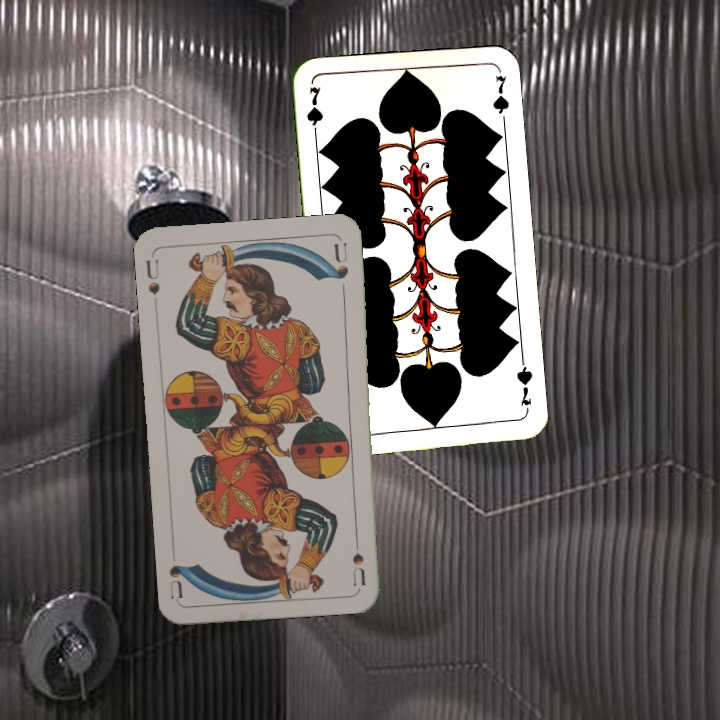G7: (302, 82, 326, 142), (512, 356, 535, 415)
SU: (348, 528, 368, 587), (142, 251, 162, 297)
